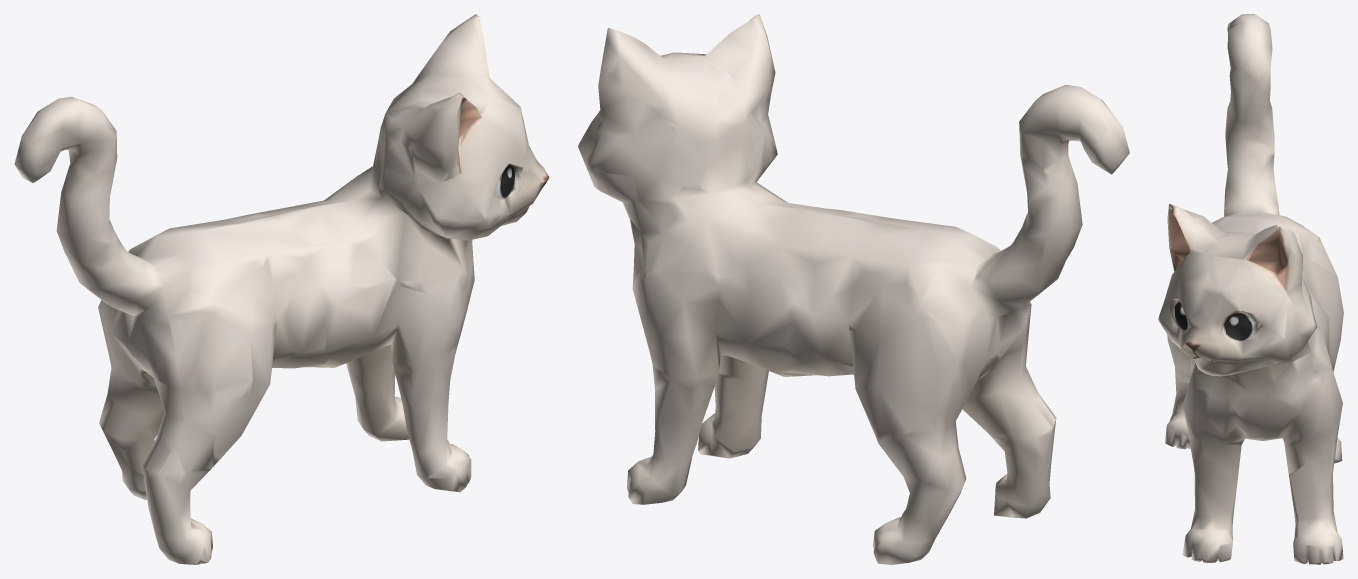
Rendered from SNOWCURL-lo.glb.
The picture shows the model from 3 angles, left to right: view 1: azimuth 30°, elevation 25°; view 2: azimuth 150°, elevation 25°; view 3: azimuth 270°, elevation 25°; orthographic projection. The views are drawn at different scales.
Visible parts, largest first — view 1: tripo_node_0bca950a-a8fc-4ba5-bc4b-1459adee2b8e; view 2: tripo_node_0bca950a-a8fc-4ba5-bc4b-1459adee2b8e; view 3: tripo_node_0bca950a-a8fc-4ba5-bc4b-1459adee2b8e.
Part boxes in pixels (bbox=[...]): tripo_node_0bca950a-a8fc-4ba5-bc4b-1459adee2b8e: bbox=[14, 14, 549, 564]; tripo_node_0bca950a-a8fc-4ba5-bc4b-1459adee2b8e: bbox=[578, 14, 1129, 564]; tripo_node_0bca950a-a8fc-4ba5-bc4b-1459adee2b8e: bbox=[1158, 14, 1343, 564].
Size of the model in its own units: 1.17 by 1 by 0.4344.
Materials: 1 (1 with a texture image).
